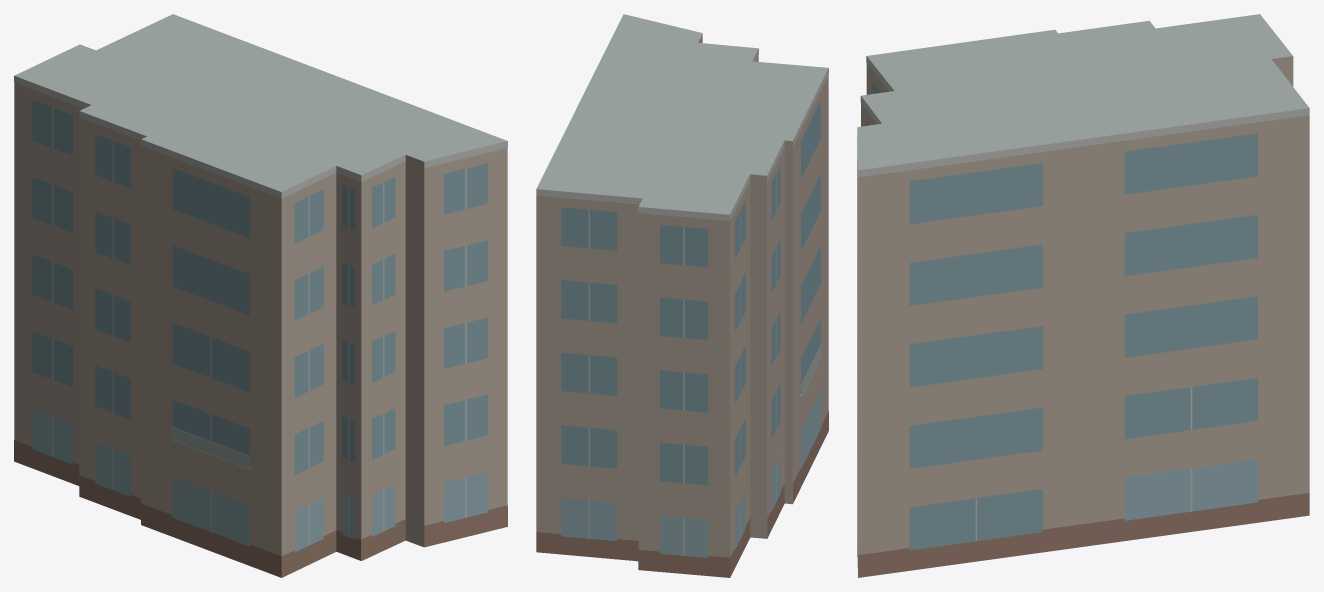
File: survey-upis-32991153.glb
The picture shows the model from 3 angles, left to right: view 1: azimuth 30°, elevation 25°; view 2: azimuth 150°, elevation 25°; view 3: azimuth 270°, elevation 25°; orthographic projection. The views are drawn at different scales.
Visible parts, largest first — view 1: survey-upis-32991153.tmp; view 2: survey-upis-32991153.tmp; view 3: survey-upis-32991153.tmp.
Boxes of the visible parts, x1,y1,x2,y2 form: survey-upis-32991153.tmp: (14,14,507,577); survey-upis-32991153.tmp: (536,14,828,577); survey-upis-32991153.tmp: (857,14,1309,577).
Size of the model in its own units: 11.53 by 14 by 14.09.
